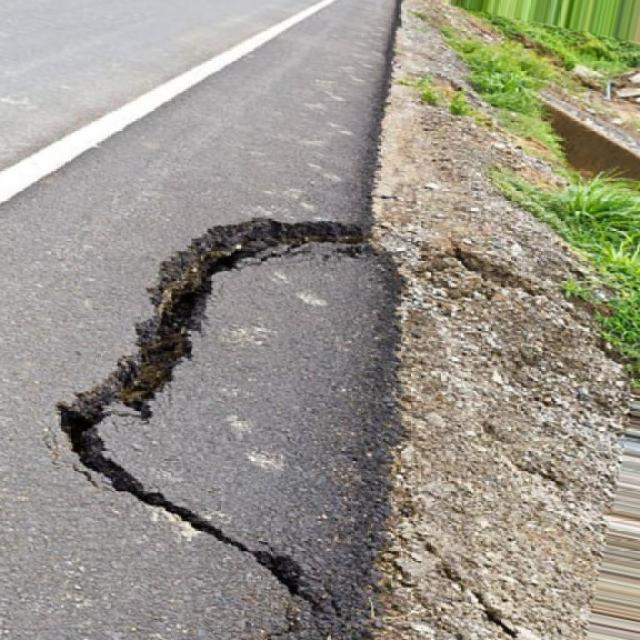Pinggir: (32, 213, 420, 637)
